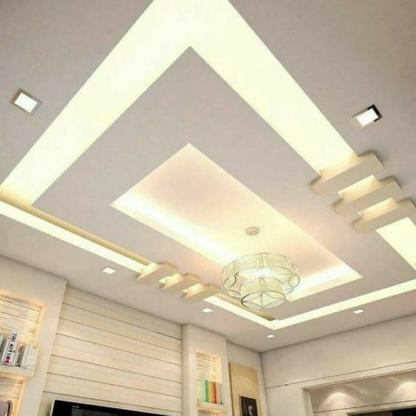Gypsum Board: (0, 0, 416, 357)
